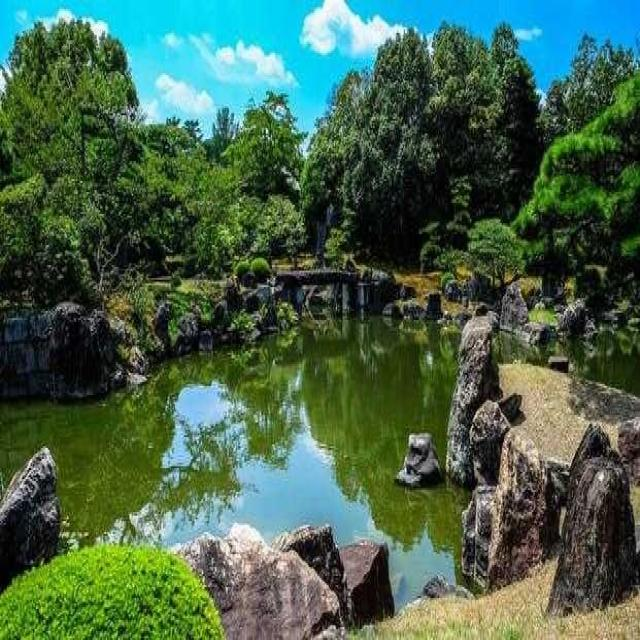Ponds: (1, 272, 640, 609)
